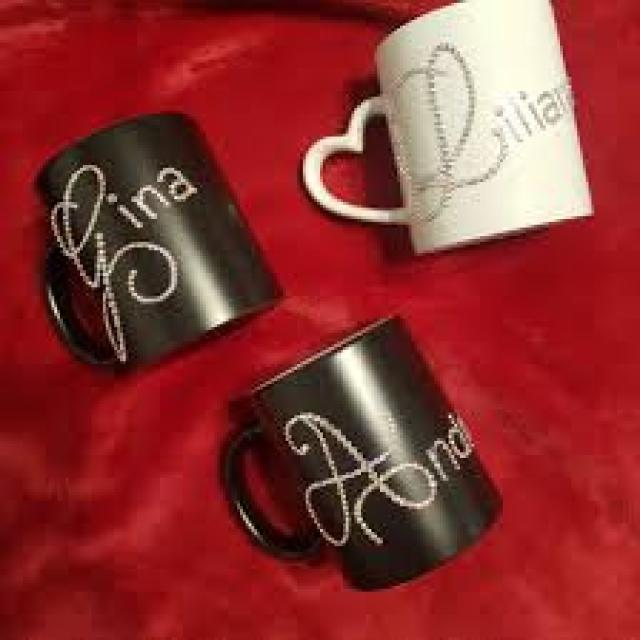taza: (210, 312, 510, 605), (25, 105, 284, 399), (296, 0, 604, 246)
